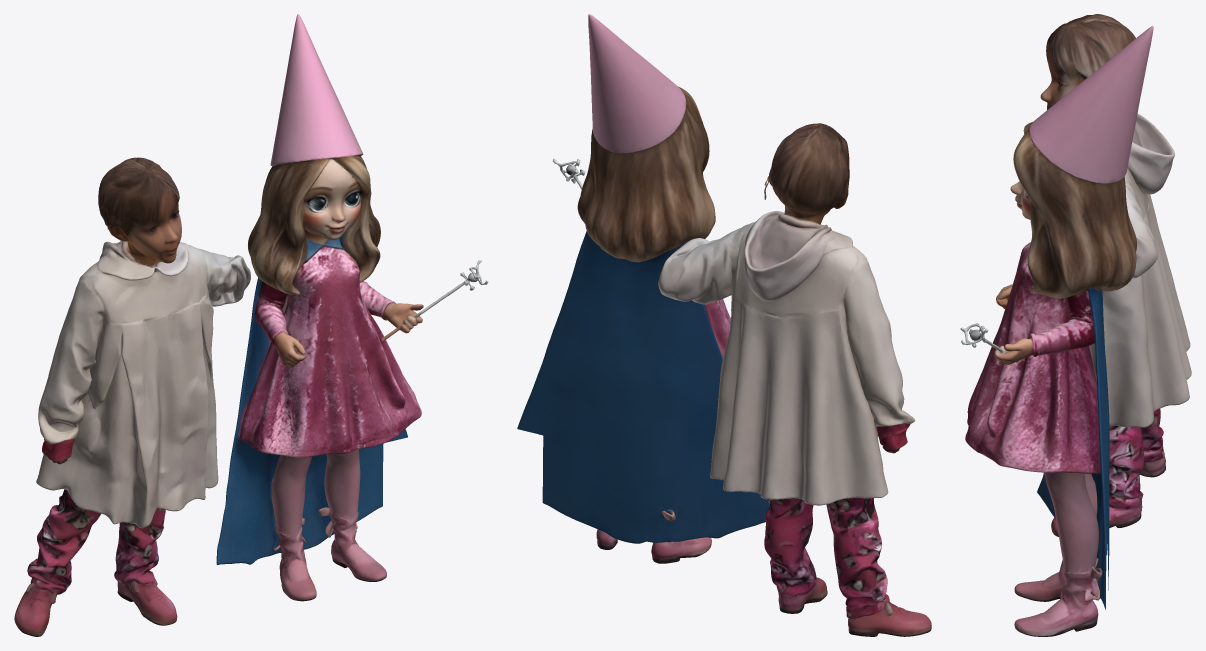
The model's file is lilen.glb.
The picture shows the model from 3 angles, left to right: view 1: azimuth 30°, elevation 25°; view 2: azimuth 150°, elevation 25°; view 3: azimuth 270°, elevation 25°; orthographic projection. The views are drawn at different scales.
Parts seen in each view (by area): view 1: tripo_node_ed9e6565-e09f-4272-8879-3c6a652d6901; view 2: tripo_node_ed9e6565-e09f-4272-8879-3c6a652d6901; view 3: tripo_node_ed9e6565-e09f-4272-8879-3c6a652d6901.
Part boxes in pixels (x1,y1,x2,y2): tripo_node_ed9e6565-e09f-4272-8879-3c6a652d6901: (14, 14, 488, 636); tripo_node_ed9e6565-e09f-4272-8879-3c6a652d6901: (517, 14, 931, 636); tripo_node_ed9e6565-e09f-4272-8879-3c6a652d6901: (960, 14, 1191, 636).
Size of the model in its own units: 0.7968 by 1 by 0.3493.
1 material, 1 textured.
